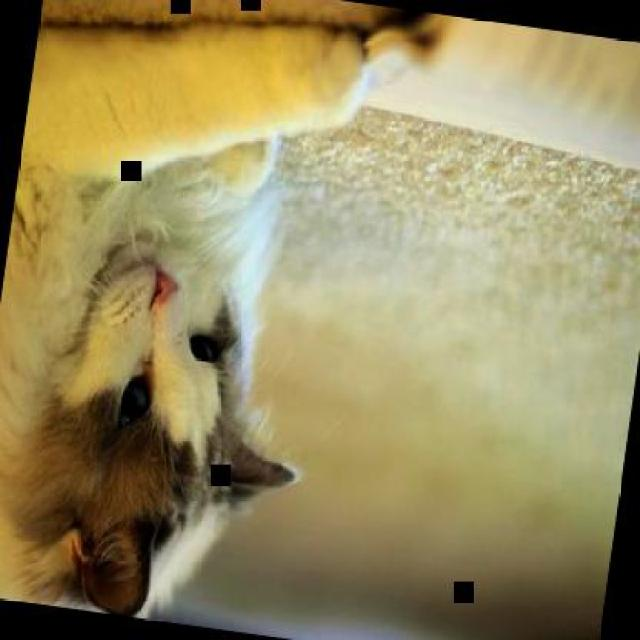cat: (0, 0, 375, 638)
